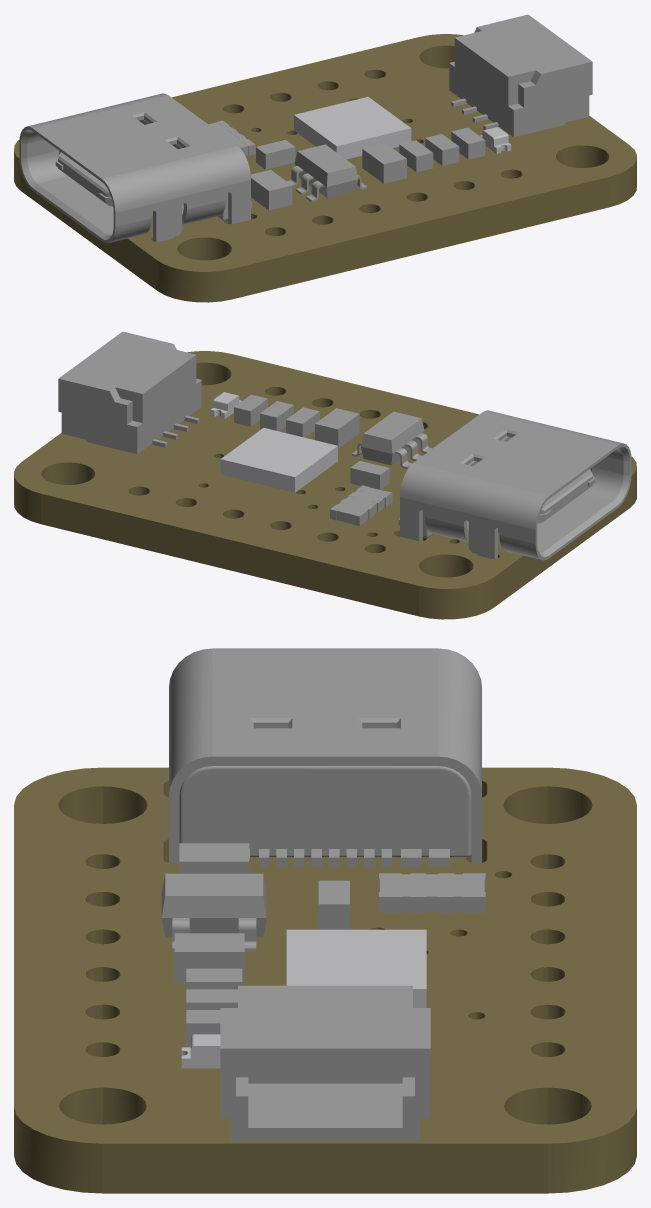
Rendered from ada-4471.glb.
3 renders of one model, top to bottom at view 1: azimuth 30°, elevation 25°; view 2: azimuth 150°, elevation 25°; view 3: azimuth 270°, elevation 25°, orthographic. The views are drawn at different scales.
Parts seen in each view (by area): view 1: 0.16666666666666666_0.16666666666666666_0.08333333333333333_, 0.3333333333333333_0.3333333333333333_0.3333333333333333_0, 0.5833333333333334_0.5833333333333334_0.5833333333333334_0.8; view 2: 0.16666666666666666_0.16666666666666666_0.08333333333333333_, 0.3333333333333333_0.3333333333333333_0.3333333333333333_0, 0.5833333333333334_0.5833333333333334_0.5833333333333334_0.8; view 3: 0.16666666666666666_0.16666666666666666_0.08333333333333333_, 0.3333333333333333_0.3333333333333333_0.3333333333333333_0, 0.5833333333333334_0.5833333333333334_0.5833333333333334_0.8.
Part boxes in pixels (x1,y1,x2,y2): 0.16666666666666666_0.16666666666666666_0.08333333333333333_: (14, 34, 636, 302); 0.3333333333333333_0.3333333333333333_0.3333333333333333_0: (19, 14, 592, 243); 0.5833333333333334_0.5833333333333334_0.5833333333333334_0.8: (294, 97, 511, 159); 0.16666666666666666_0.16666666666666666_0.08333333333333333_: (14, 351, 636, 619); 0.3333333333333333_0.3333333333333333_0.3333333333333333_0: (58, 331, 631, 560); 0.5833333333333334_0.5833333333333334_0.5833333333333334_0.8: (210, 392, 337, 492); 0.16666666666666666_0.16666666666666666_0.08333333333333333_: (14, 767, 636, 1193); 0.3333333333333333_0.3333333333333333_0.3333333333333333_0: (161, 648, 485, 1142); 0.5833333333333334_0.5833333333333334_0.5833333333333334_0.8: (181, 929, 426, 1068).
Size of the model in its own units: 2.66 by 0.4769 by 1.78.
